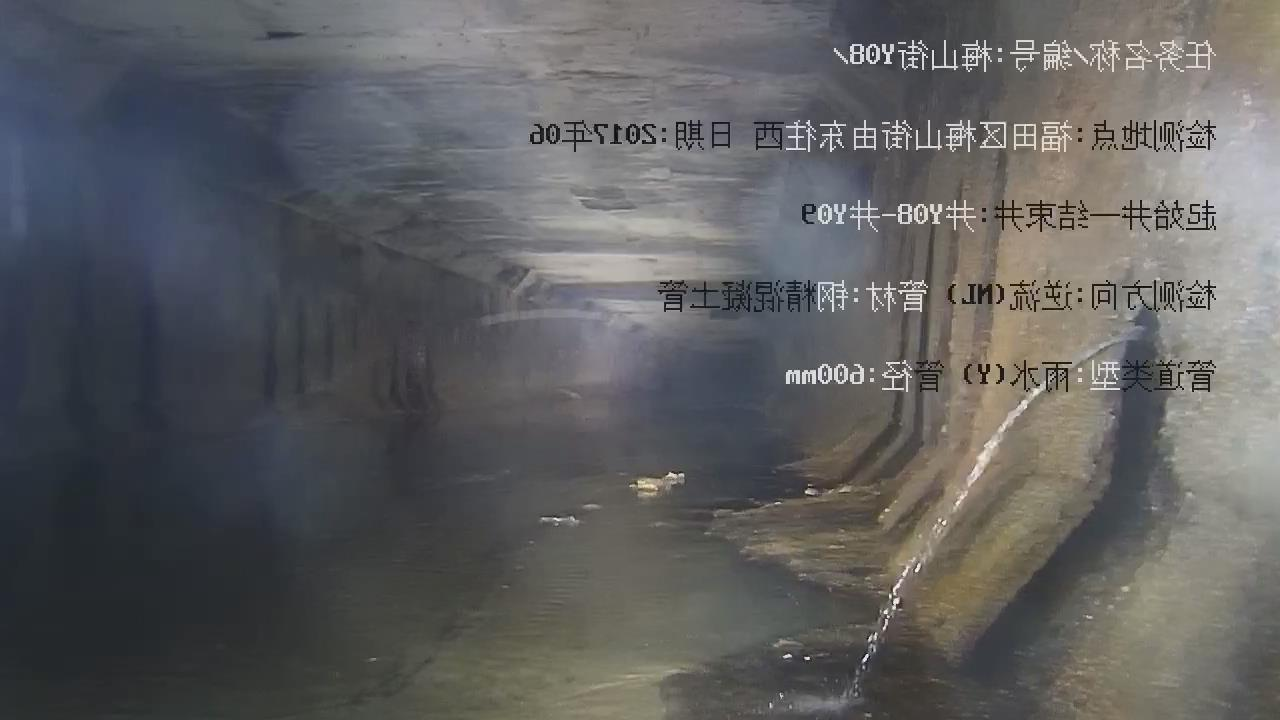SL: (785, 302, 1156, 712)
